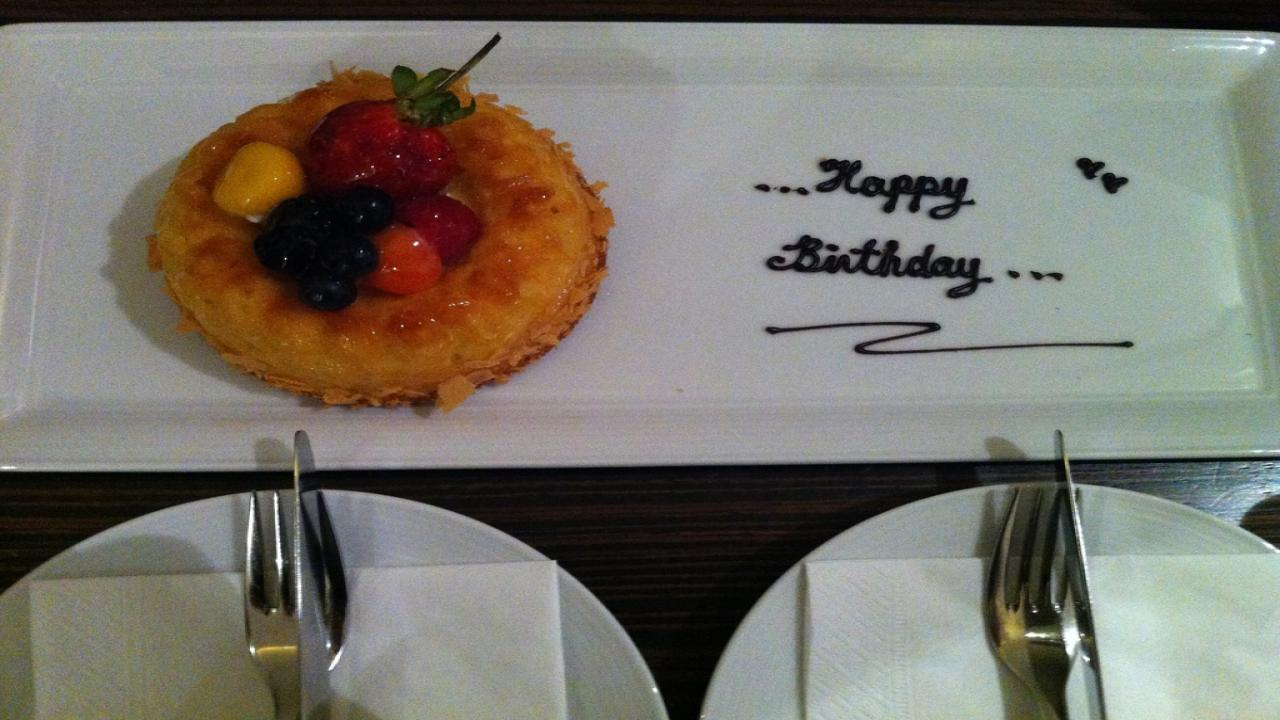fork: (982, 482, 1096, 720), (242, 491, 351, 720)
